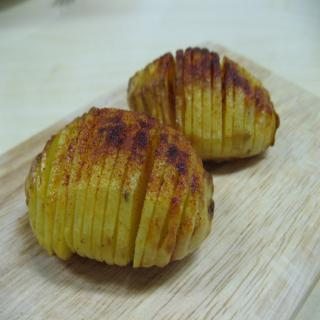Potato: (24, 105, 215, 262), (125, 46, 279, 160)
